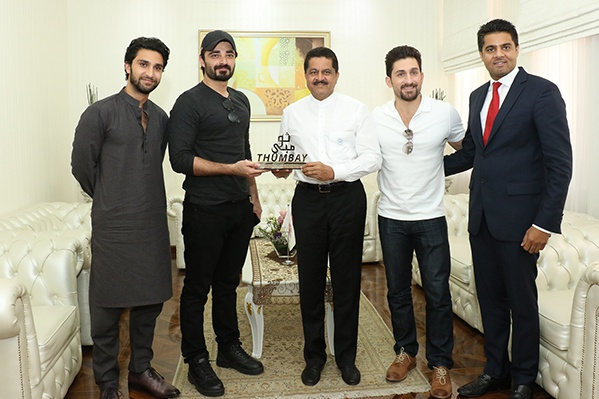bad: (389, 62, 425, 98), (129, 54, 165, 90), (481, 38, 517, 74), (301, 62, 337, 98), (205, 42, 241, 78)
